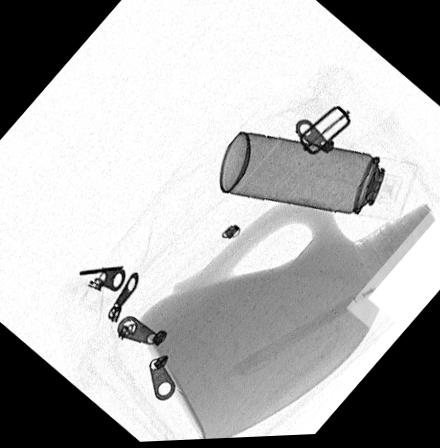Sprayer: (217, 132, 417, 224)
